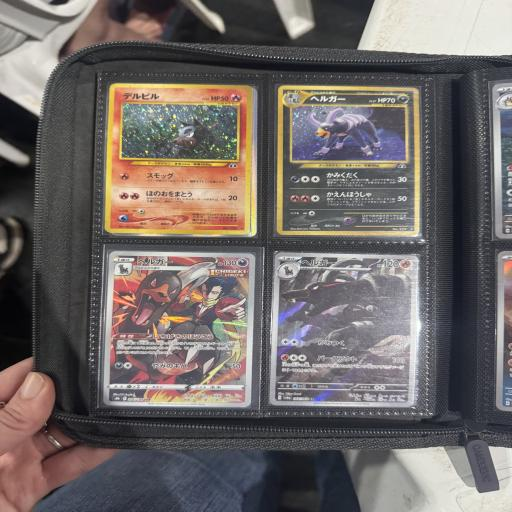card: (103, 250, 256, 407), (270, 251, 419, 409), (105, 83, 253, 235), (276, 85, 420, 236)
